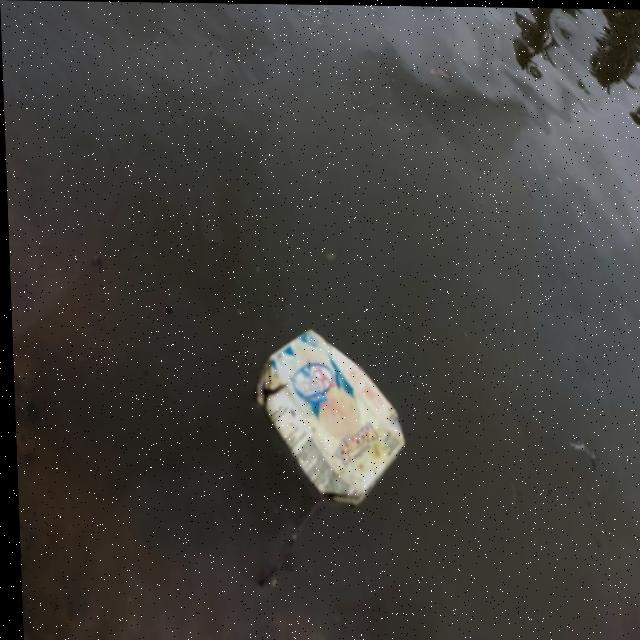paper: (235, 321, 416, 512)
